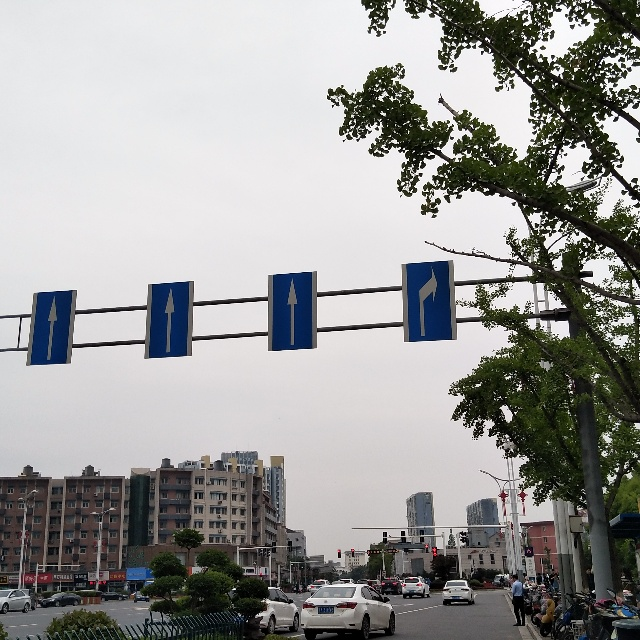right: (404, 263, 456, 343)
straight: (272, 277, 314, 349), (149, 283, 188, 357), (37, 292, 68, 362)
